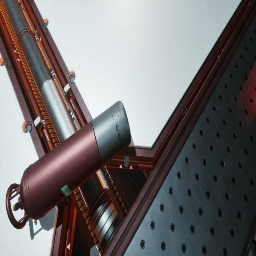NitrogenTank ,: (5, 100, 131, 230)
